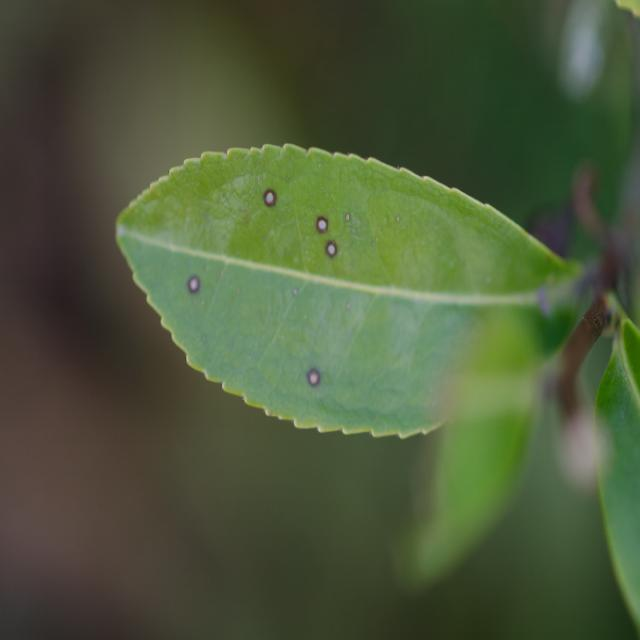Tea red scab: (311, 209, 332, 239), (302, 362, 322, 391), (261, 183, 276, 206), (185, 273, 200, 295), (325, 235, 339, 258)
